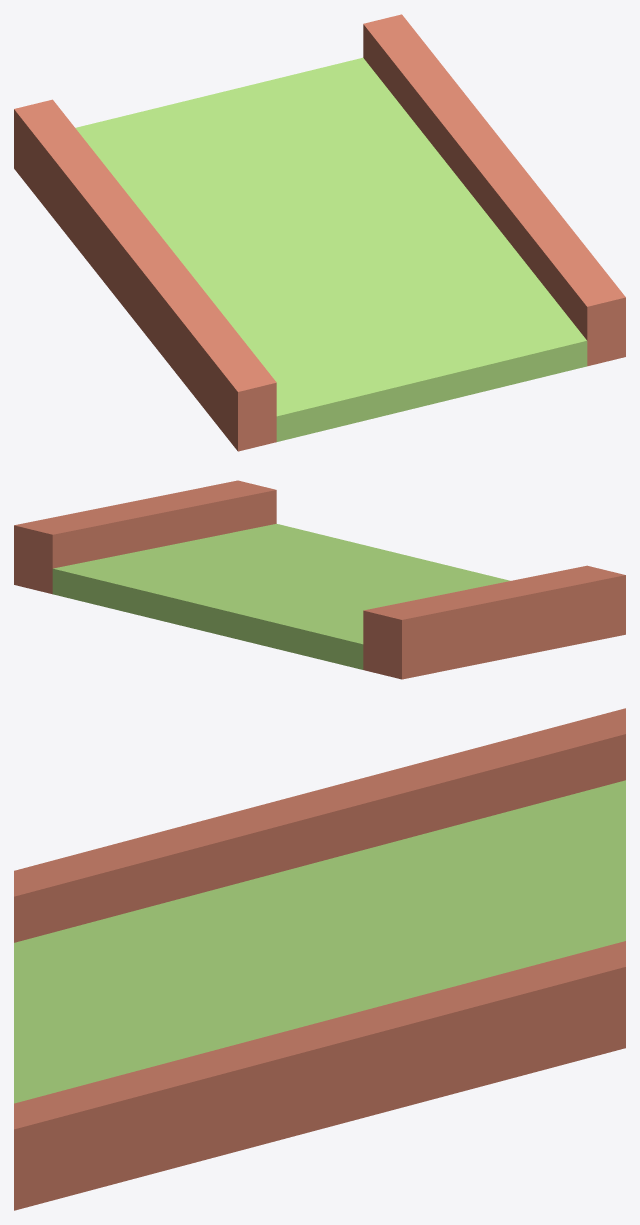
The model's file is Ramp_2_01.glb.
3 views of the same model, one above another, from view 1: azimuth 30°, elevation 25°; view 2: azimuth 150°, elevation 25°; view 3: azimuth 270°, elevation 25° (orthographic). The views are drawn at different scales.
Visible parts, largest first — view 1: Mesh1 Ramp_2 Model; view 2: Mesh1 Ramp_2 Model; view 3: Mesh1 Ramp_2 Model.
Boxes of the visible parts, <box> form: Mesh1 Ramp_2 Model: <box>14,14,625,451</box>; Mesh1 Ramp_2 Model: <box>14,480,625,679</box>; Mesh1 Ramp_2 Model: <box>14,708,625,1210</box>.
Bounding box in the file's own units: 3 × 1.32 × 3.
